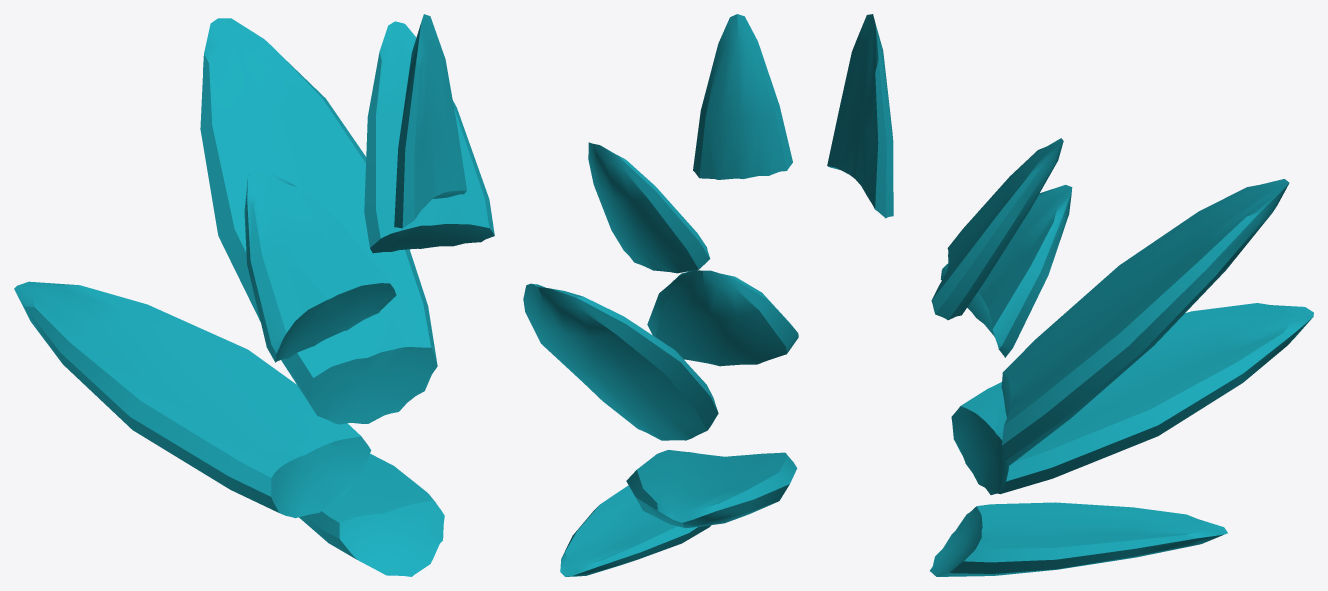
Rendered from agave-foglie.glb.
3 views of the same model, side by side, from view 1: azimuth 30°, elevation 25°; view 2: azimuth 150°, elevation 25°; view 3: azimuth 270°, elevation 25° (orthographic). The views are drawn at different scales.
Parts seen in each view (by area): view 1: foglia-agave-02, foglia-agave-03, foglia-agave-04, foglia-agave-05, foglia-agave-01, foglia-agave-06; view 2: foglia-agave-03, foglia-agave-06, foglia-agave-04, foglia-agave-02, foglia-agave-05, foglia-agave-01; view 3: foglia-agave-03, foglia-agave-02, foglia-agave-01, foglia-agave-06, foglia-agave-04, foglia-agave-05.
Boxes of the visible parts, left/top/right/bottom form: foglia-agave-02: left=14, top=281, right=371, bottom=518; foglia-agave-03: left=200, top=18, right=437, bottom=424; foglia-agave-04: left=244, top=168, right=396, bottom=362; foglia-agave-05: left=364, top=21, right=494, bottom=253; foglia-agave-01: left=299, top=453, right=444, bottom=576; foglia-agave-06: left=394, top=14, right=466, bottom=228; foglia-agave-03: left=523, top=283, right=718, bottom=440; foglia-agave-06: left=693, top=14, right=792, bottom=179; foglia-agave-04: left=647, top=270, right=798, bottom=366; foglia-agave-02: left=626, top=450, right=797, bottom=528; foglia-agave-05: left=588, top=142, right=710, bottom=273; foglia-agave-01: left=560, top=485, right=711, bottom=576; foglia-agave-03: left=1001, top=179, right=1289, bottom=466; foglia-agave-02: left=951, top=303, right=1313, bottom=494; foglia-agave-01: left=930, top=502, right=1227, bottom=576; foglia-agave-06: left=827, top=14, right=893, bottom=218; foglia-agave-04: left=940, top=184, right=1072, bottom=357; foglia-agave-05: left=931, top=138, right=1063, bottom=320.
Bounding box in the file's own units: 0.6248 × 1.17 × 0.9412.
